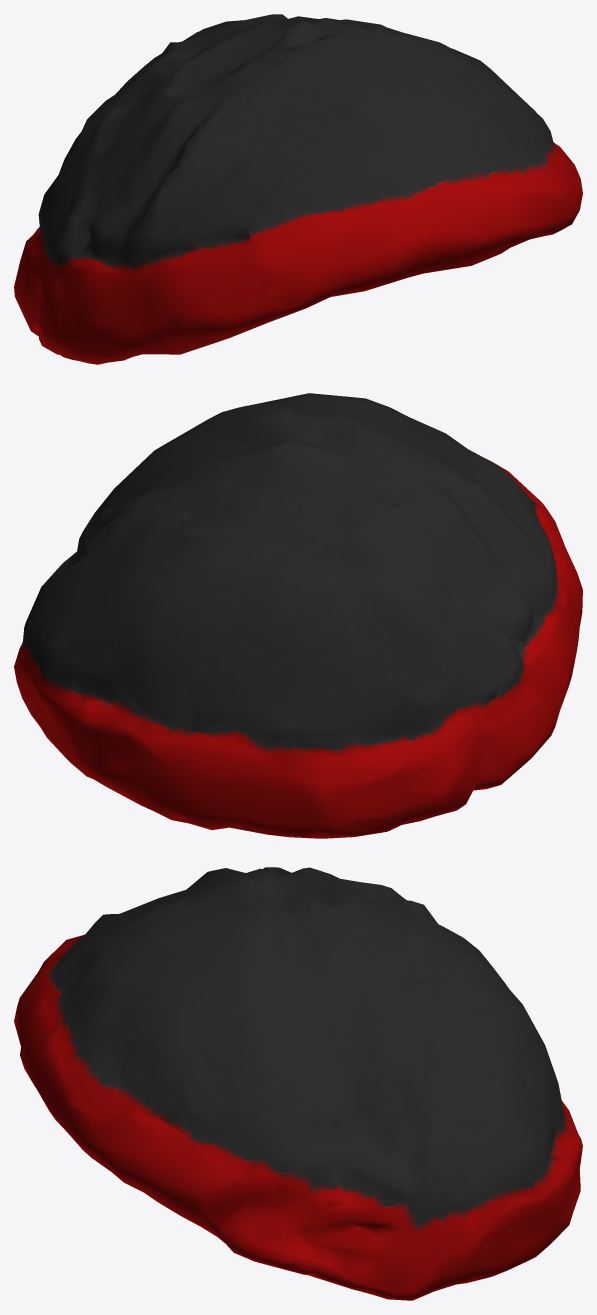
Rendered from knit atlanta.glb.
The picture shows the model from 3 angles, top to bottom: view 1: azimuth 30°, elevation 25°; view 2: azimuth 150°, elevation 25°; view 3: azimuth 270°, elevation 25°; orthographic projection. The views are drawn at different scales.
Parts seen in each view (by area): view 1: hat_knit_atlanta.001; view 2: hat_knit_atlanta.001; view 3: hat_knit_atlanta.001.
Part boxes in pixels (bbox=[...]): hat_knit_atlanta.001: bbox=[14, 14, 582, 364]; hat_knit_atlanta.001: bbox=[14, 393, 582, 838]; hat_knit_atlanta.001: bbox=[14, 867, 582, 1300].
Size of the model in its own units: 0.3703 by 0.2296 by 0.3552.
Materials: 1 (1 with a texture image).
